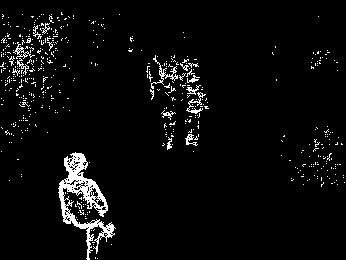person: (58, 152, 116, 259), (186, 84, 207, 148), (156, 83, 175, 149), (178, 56, 199, 82), (144, 54, 162, 83), (163, 54, 176, 82)
